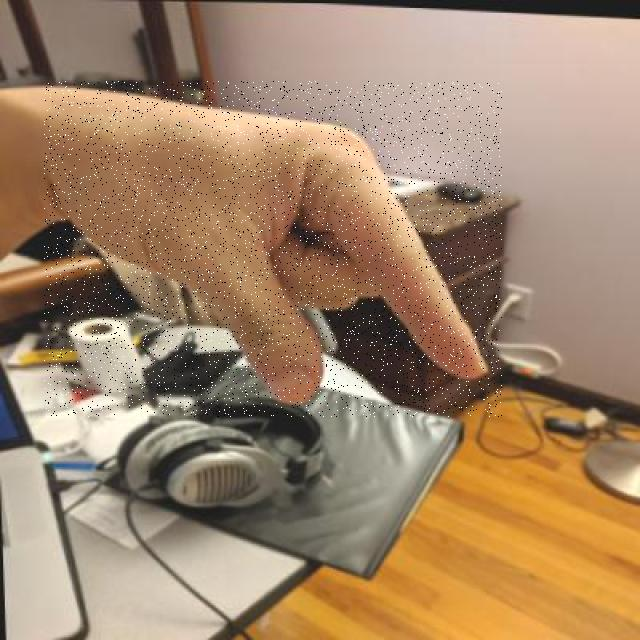Q: (44, 81, 502, 417)
